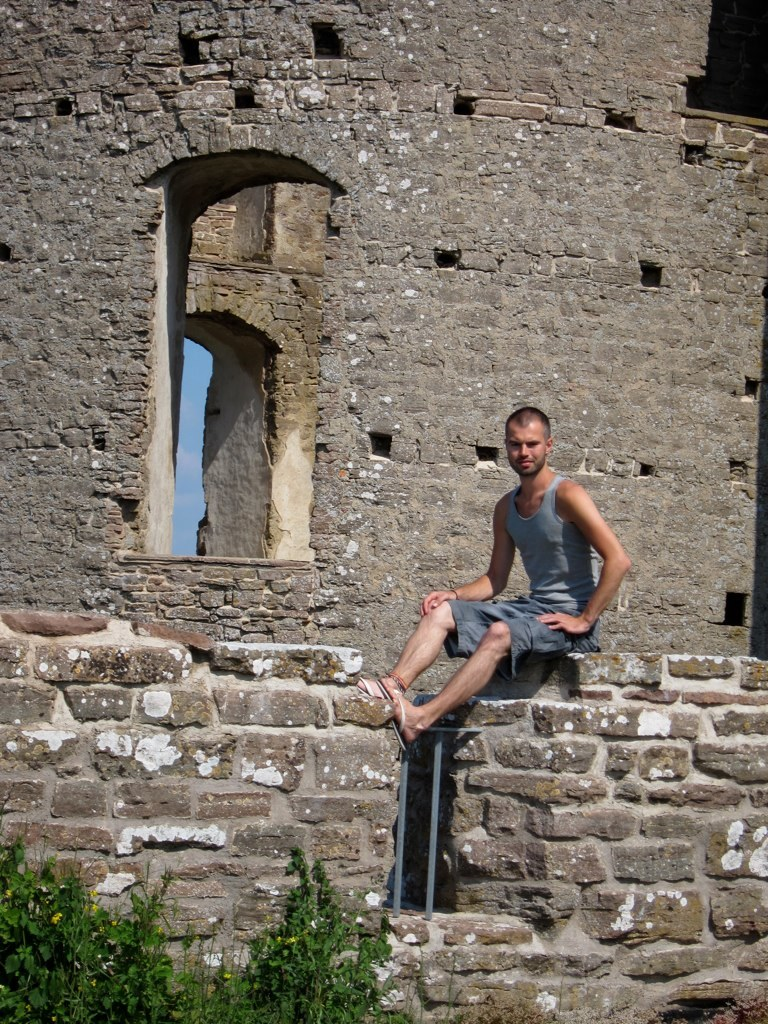Human_hand: (534, 610, 592, 637), (417, 589, 456, 614)
